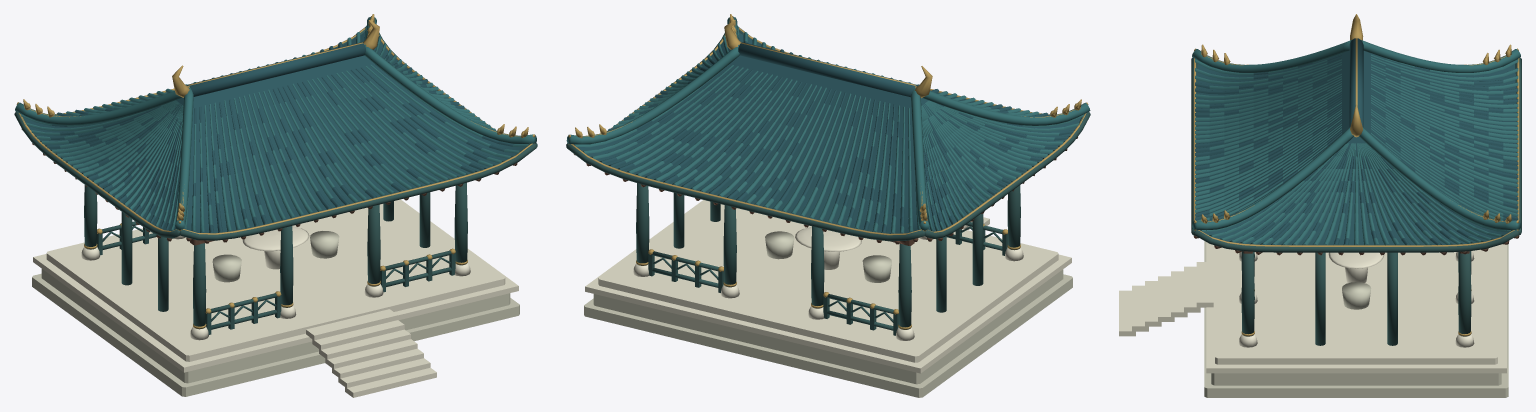
The model's file is pavilion.glb.
3 views of the same model, side by side, from view 1: azimuth 30°, elevation 25°; view 2: azimuth 150°, elevation 25°; view 3: azimuth 270°, elevation 25° (orthographic).
Visible parts, largest first — view 1: Pavilion_StoneCarving, Pavilion_TileShade, Pavilion_TileJade, Pavilion_Lacquer, Pavilion_Limestone, Pavilion_AgedBronze, Pavilion_Cedar; view 2: Pavilion_StoneCarving, Pavilion_TileShade, Pavilion_TileJade, Pavilion_Lacquer, Pavilion_Limestone, Pavilion_AgedBronze, Pavilion_Cedar; view 3: Pavilion_TileJade, Pavilion_StoneCarving, Pavilion_TileShade, Pavilion_Limestone, Pavilion_Lacquer, Pavilion_AgedBronze.
Boxes of the visible parts, <box> form: Pavilion_StoneCarving: <box>33,199,518,397</box>; Pavilion_TileShade: <box>23,32,526,233</box>; Pavilion_TileJade: <box>15,17,536,232</box>; Pavilion_Lacquer: <box>14,27,537,334</box>; Pavilion_Limestone: <box>32,231,519,396</box>; Pavilion_AgedBronze: <box>16,14,535,328</box>; Pavilion_Cedar: <box>21,129,517,245</box>; Pavilion_StoneCarving: <box>585,200,1071,373</box>; Pavilion_TileShade: <box>575,32,1081,233</box>; Pavilion_TileJade: <box>566,17,1090,233</box>; Pavilion_Lacquer: <box>566,27,1090,335</box>; Pavilion_Limestone: <box>584,231,1072,397</box>; Pavilion_AgedBronze: <box>568,14,1088,329</box>; Pavilion_Cedar: <box>574,137,1077,245</box>; Pavilion_TileJade: <box>1192,40,1520,245</box>; Pavilion_StoneCarving: <box>1119,242,1506,373</box>; Pavilion_TileShade: <box>1195,38,1518,245</box>; Pavilion_Limestone: <box>1204,241,1508,397</box>; Pavilion_Lacquer: <box>1191,57,1521,345</box>; Pavilion_AgedBronze: <box>1193,14,1519,336</box>.
Size of the model in its own units: 11.89 by 8.09 by 11.51.
